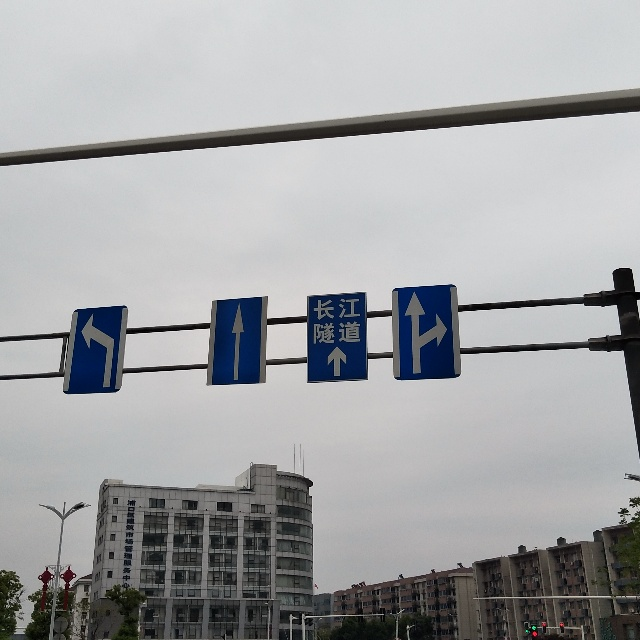left: (71, 307, 121, 389)
straight: (209, 298, 260, 384)
